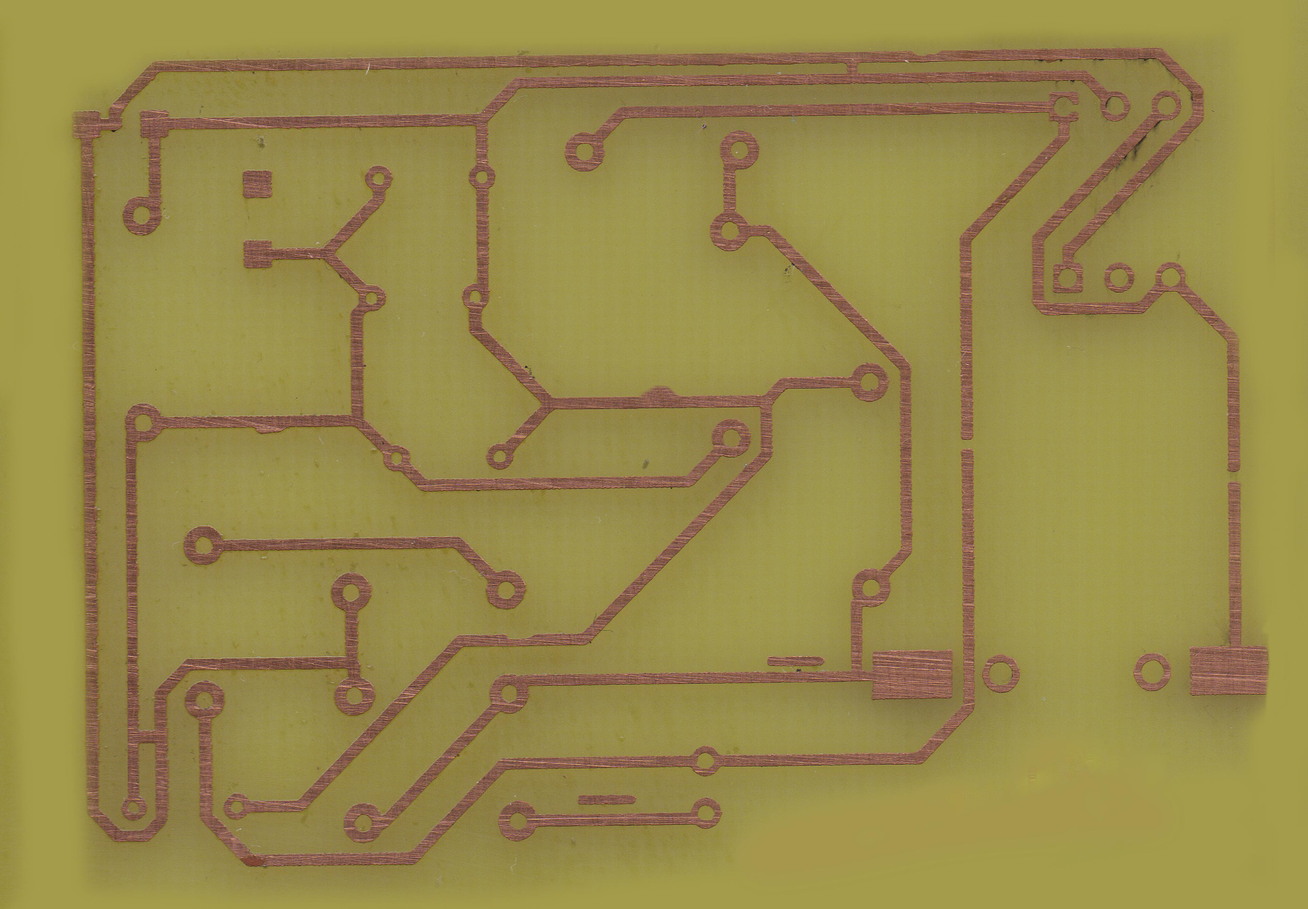missing_hole: (1047, 90, 1081, 122)
mouse_bite: (909, 47, 943, 62), (502, 632, 536, 644)
open_circuit: (960, 427, 975, 459), (1227, 460, 1241, 491)
short: (127, 726, 168, 748), (839, 51, 865, 85)
spur: (639, 383, 685, 415), (252, 415, 288, 436)
spurious_copper: (577, 793, 638, 807), (766, 654, 827, 668)
